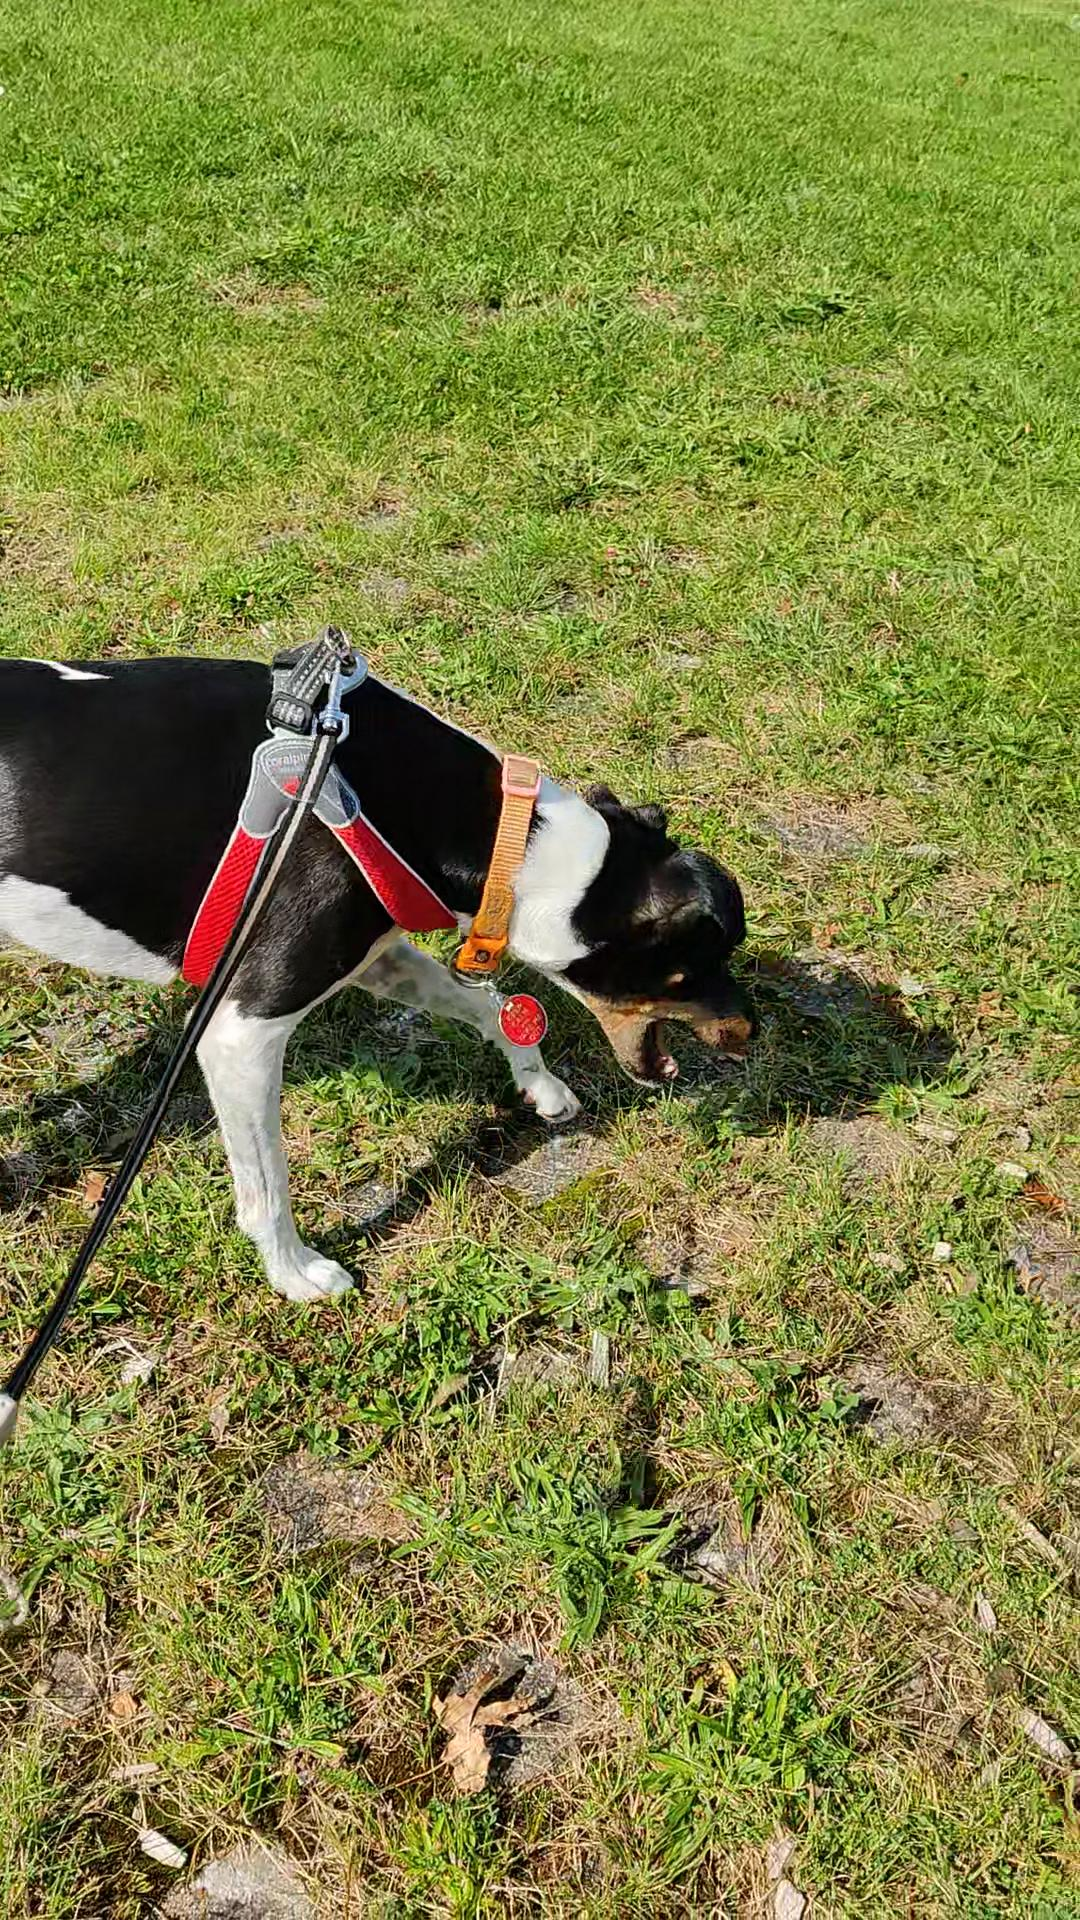Dog: (0, 608, 785, 1327)
